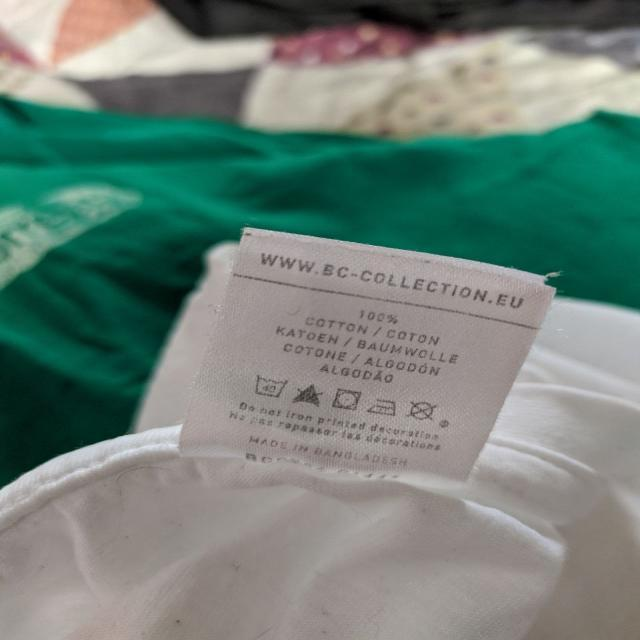40C: (254, 373, 290, 400)
DN_bleach: (294, 378, 326, 409)
DN_dry_clean: (406, 400, 439, 423)
iron_medium: (369, 396, 399, 417)
tumble_dry_low: (331, 386, 363, 413)
